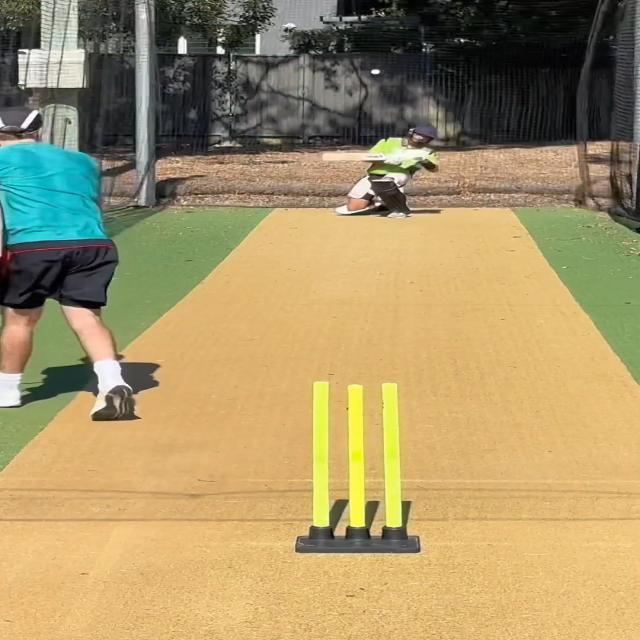ball: (369, 68, 382, 76)
stump: (290, 378, 422, 554)
